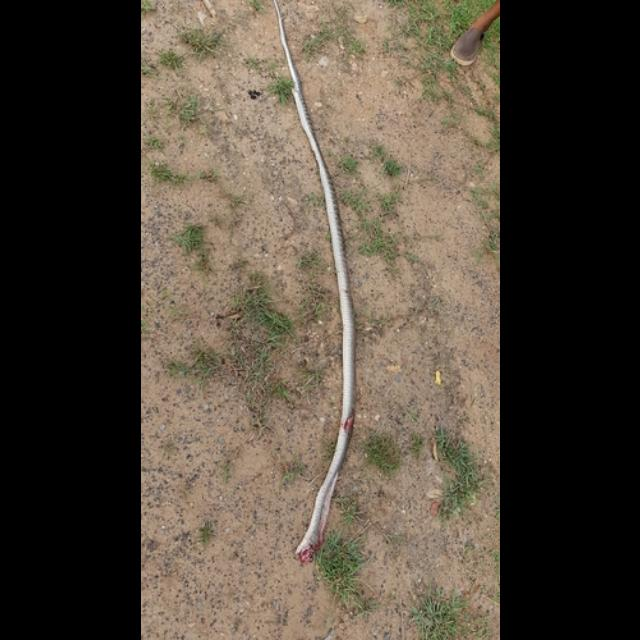snake: (252, 0, 380, 586)
